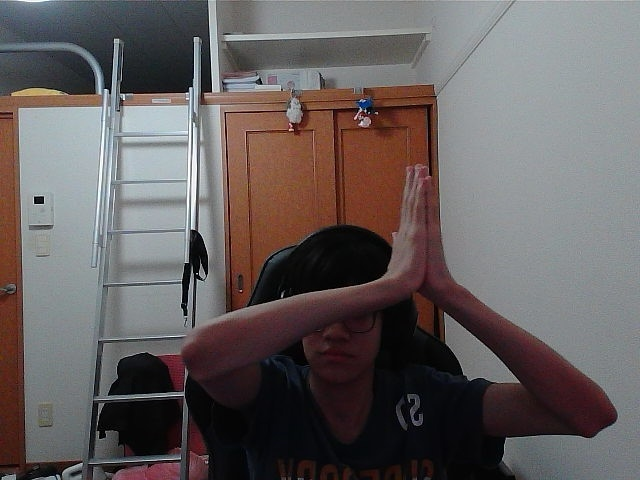pray: (396, 172, 423, 276)
